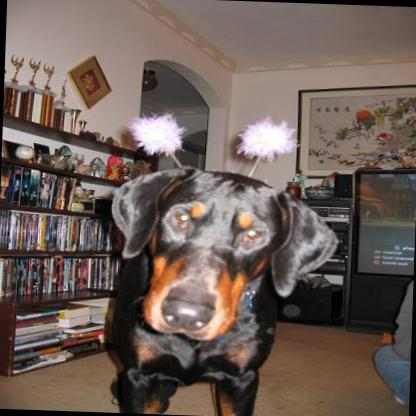Doberman: (99, 163, 339, 416)
